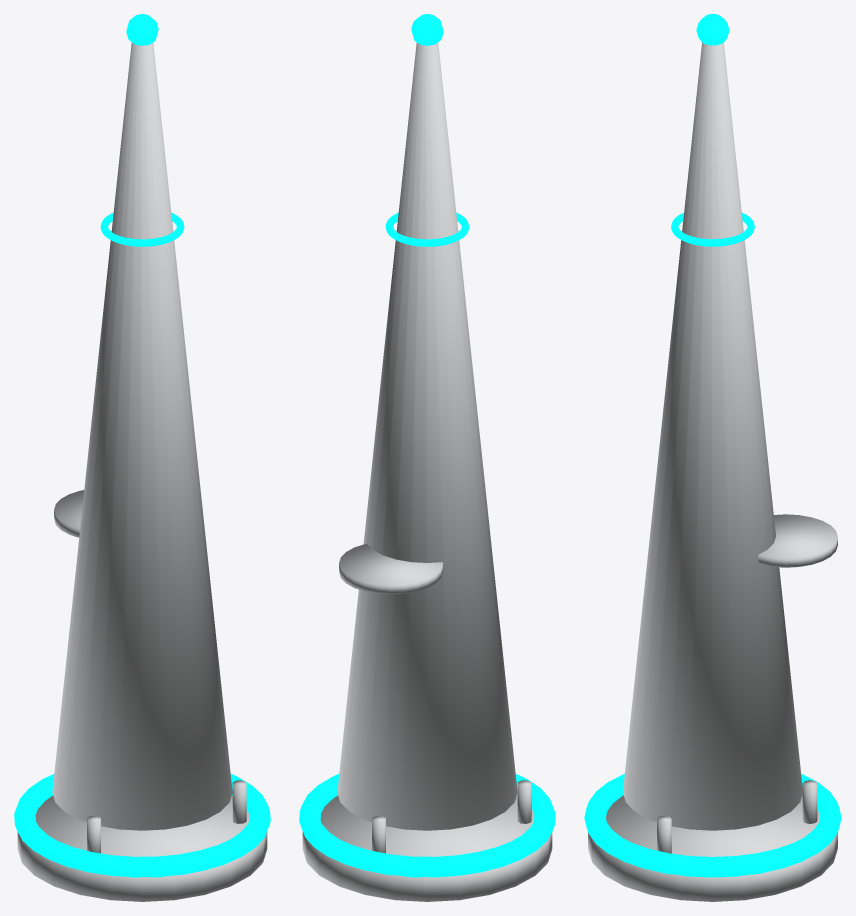
File: azure_pulse_obelisk.glb
3 renders of one model, left to right at view 1: azimuth 30°, elevation 25°; view 2: azimuth 150°, elevation 25°; view 3: azimuth 270°, elevation 25°, orthographic.
Visible parts, largest first — view 1: AzurePulseObelisk; view 2: AzurePulseObelisk; view 3: AzurePulseObelisk.
Part boxes in pixels (<box>): AzurePulseObelisk: <box>14,14,270,901</box>; AzurePulseObelisk: <box>299,14,555,901</box>; AzurePulseObelisk: <box>584,14,841,901</box>.
Bounding box in the file's own units: 1.48 × 5.31 × 1.48.
